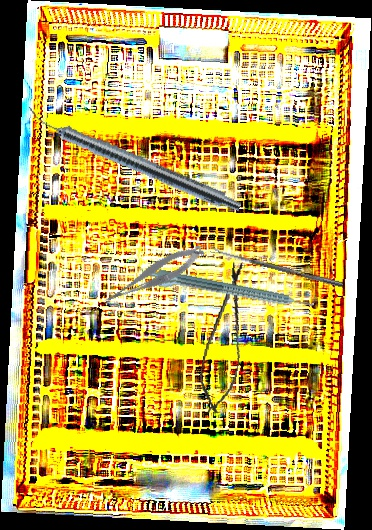Handpiece: (21, 104, 246, 216), (143, 266, 316, 319)
Micro Scissor: (194, 256, 255, 420), (97, 241, 210, 308)
Surgical Spoon: (209, 246, 345, 288)
